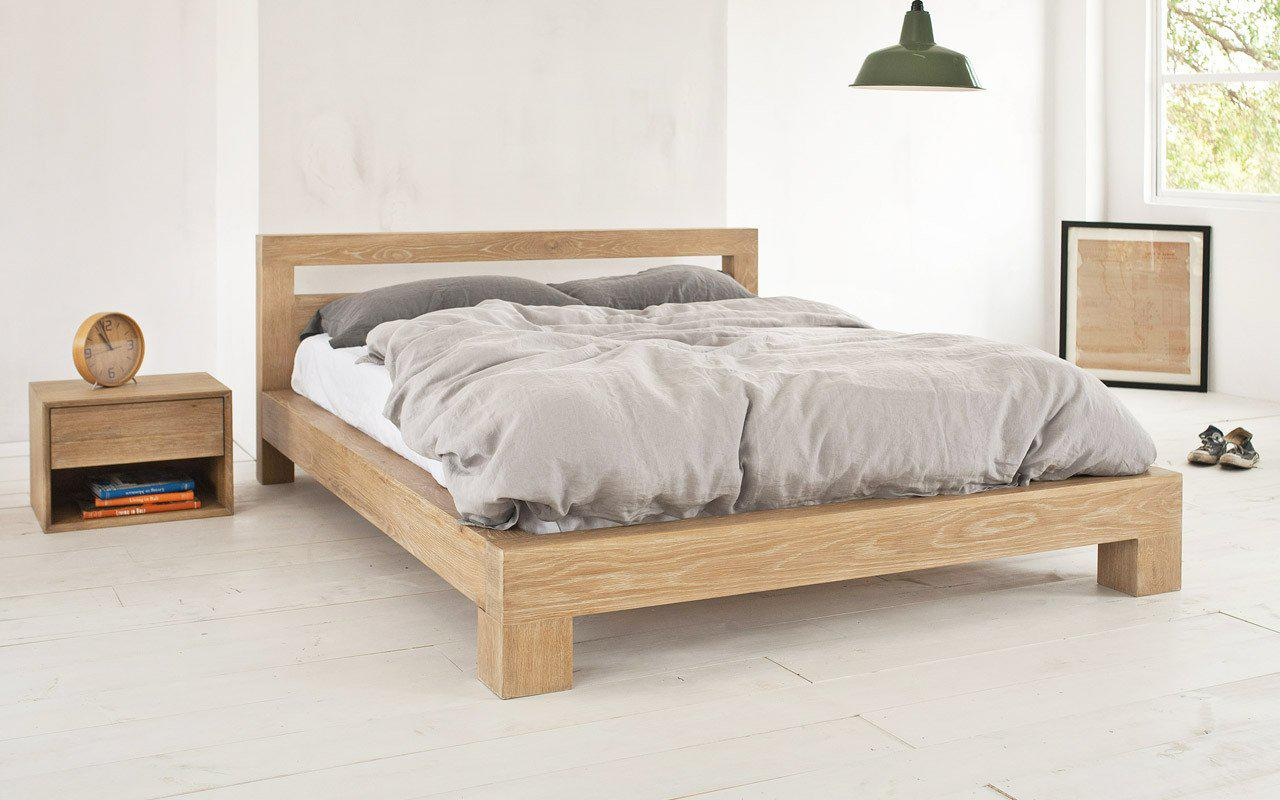bed: (227, 207, 1221, 726)
